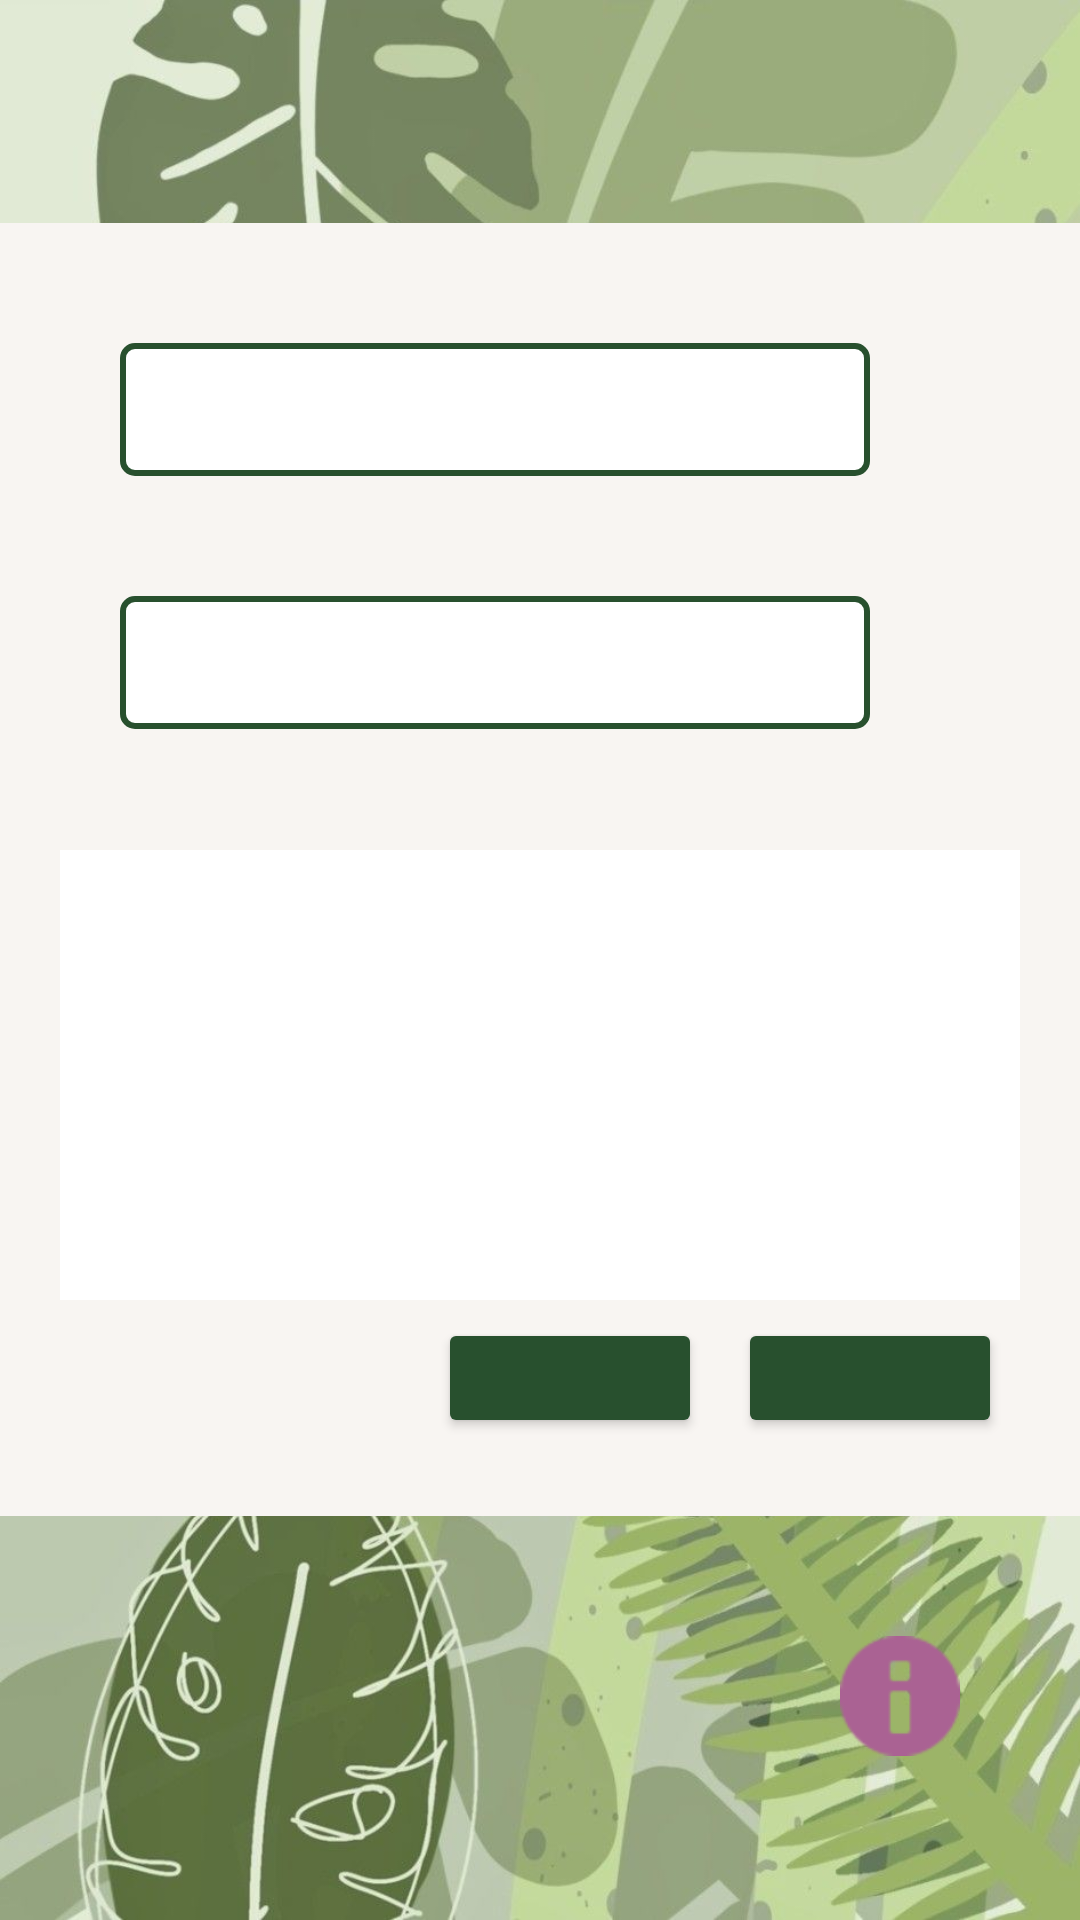

Where to tap for icons on this 1080px×1920px app screen, as point (x, y):
info: point (900, 1696)
